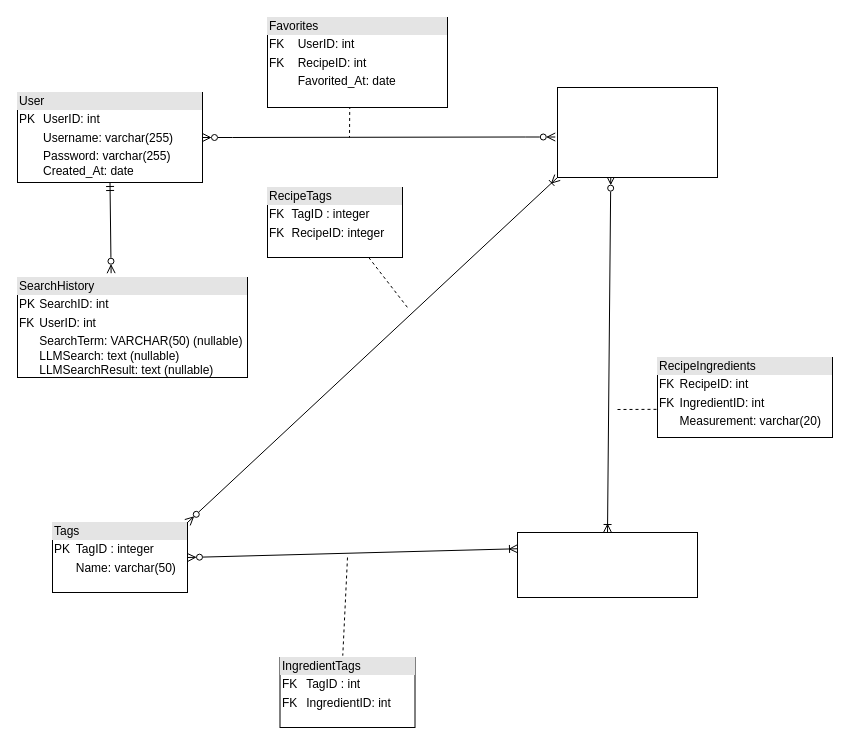
Image size: 850x745. Some labels were removed from this diagram. The centre of each missing label's shape, as x and y in pixels:
Ingredient PK IngredientID: int Name: varchar(50): point (607, 565)
Recipe PK RecipeID: int Directions: text Description: text Title: varchar(50): point (637, 132)
